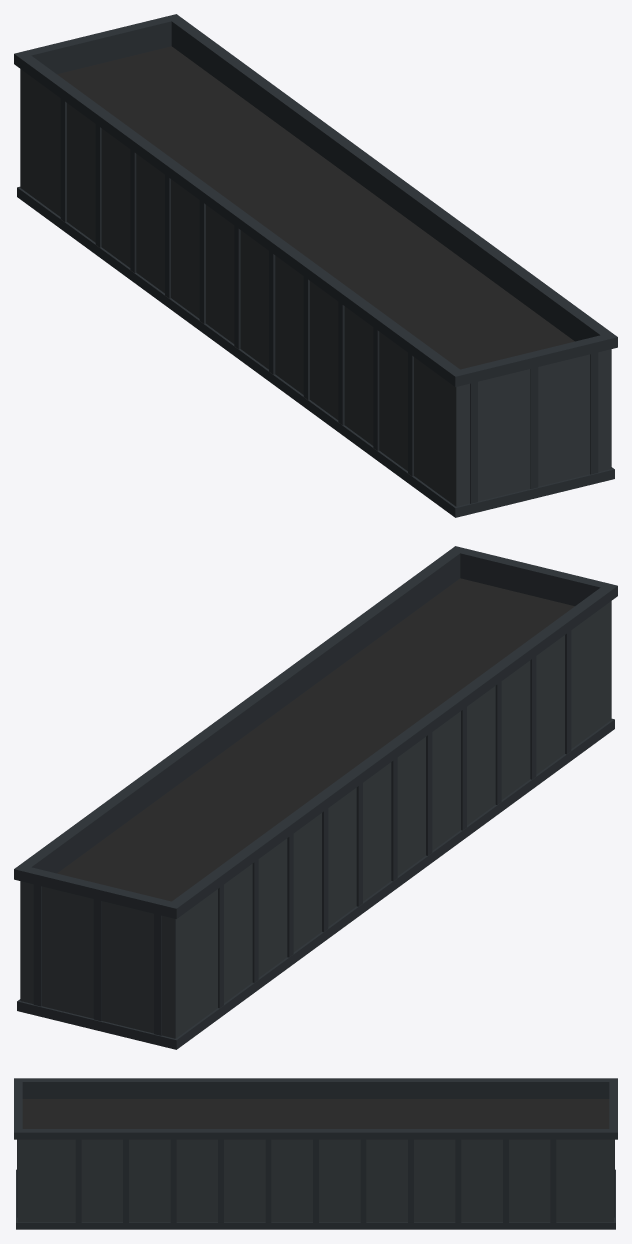
Rendered from TrainPart_06.fbx.
3 views of the same model, one above another, from view 1: azimuth 30°, elevation 25°; view 2: azimuth 150°, elevation 25°; view 3: azimuth 270°, elevation 25° (orthographic). The views are drawn at different scales.
Parts seen in each view (by area): view 1: TrainPart_06; view 2: TrainPart_06; view 3: TrainPart_06.
Boxes of the visible parts, left/top/right/bottom form: TrainPart_06: left=14, top=14, right=617, bottom=517; TrainPart_06: left=14, top=546, right=617, bottom=1049; TrainPart_06: left=14, top=1078, right=617, bottom=1229.
Bounding box in the file's own units: 362 × 304 × 1705.
